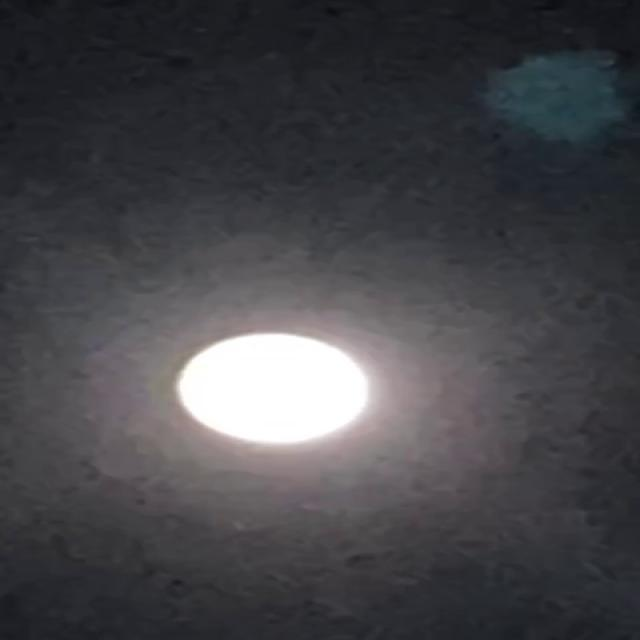moon: (150, 318, 373, 462)
